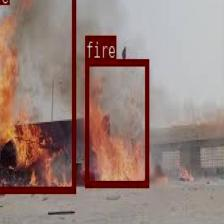fire: (0, 0, 75, 192), (85, 59, 148, 187)
